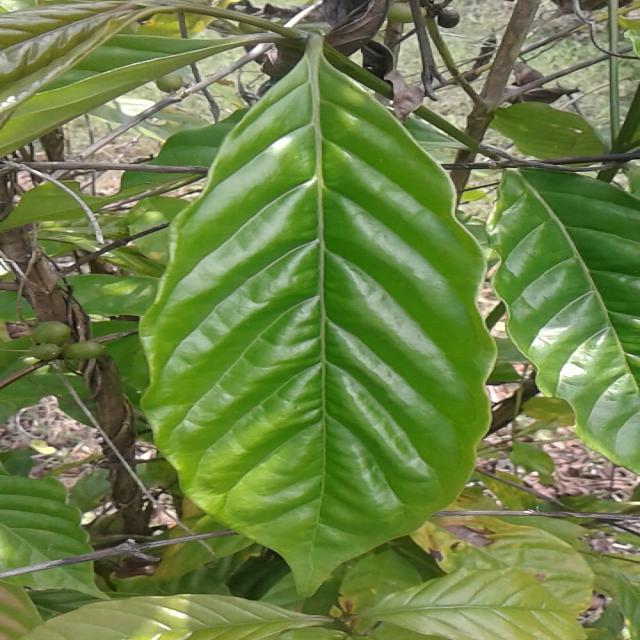Sanas: (138, 38, 497, 598)
